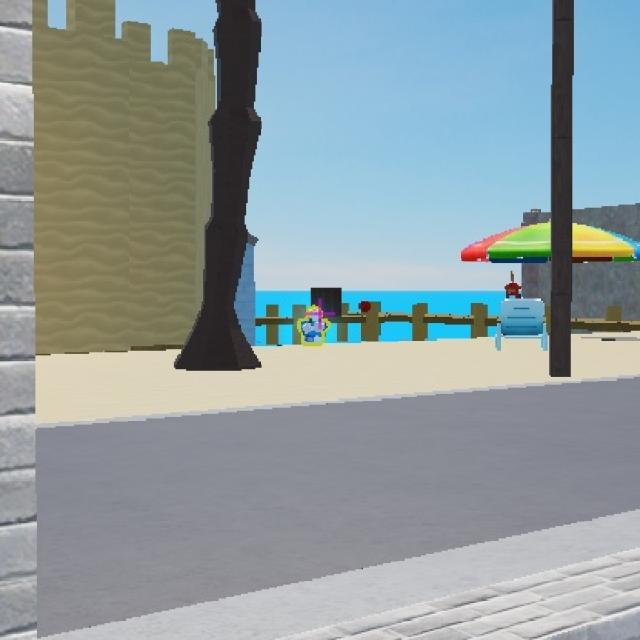player: (299, 304, 326, 348)
